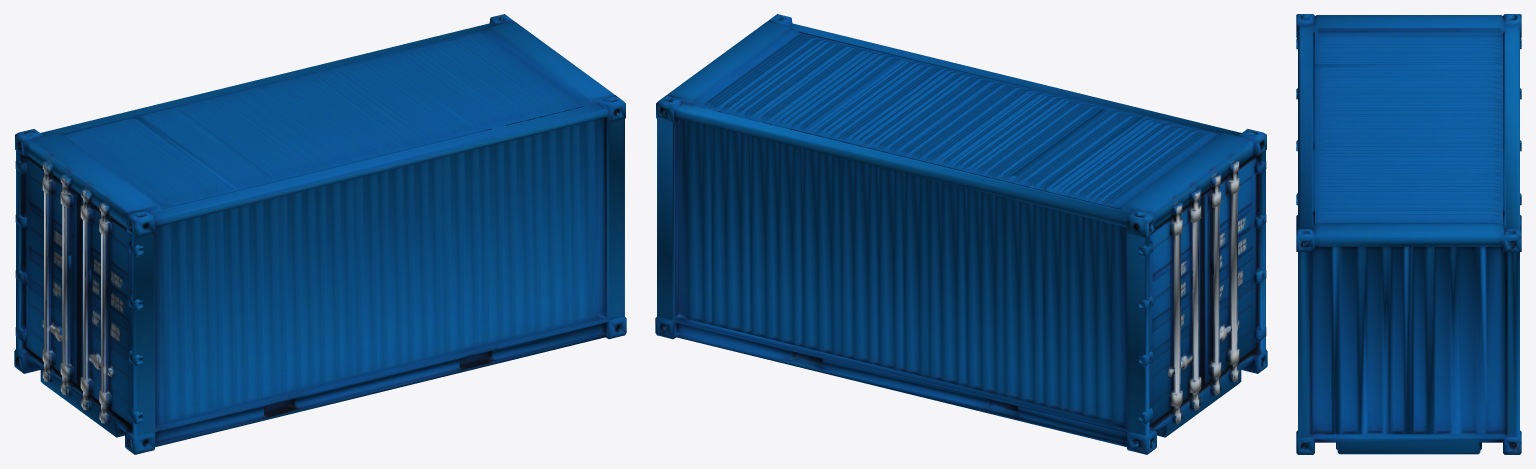
Rendered from blue_shipping_container_63cc3905_v2.glb.
3 renders of one model, left to right at view 1: azimuth 30°, elevation 25°; view 2: azimuth 150°, elevation 25°; view 3: azimuth 270°, elevation 25°, orthographic. The views are drawn at different scales.
Visible parts, largest first — view 1: material; view 2: material; view 3: material.
Boxes of the visible parts, x1=… form: material: x1=14, y1=14, x2=626, y2=454; material: x1=655, y1=14, x2=1267, y2=454; material: x1=1296, y1=14, x2=1521, y2=454.
Bounding box in the file's own units: 1.9 × 0.8611 × 0.8026.
Materials: 1 (1 with a texture image).
